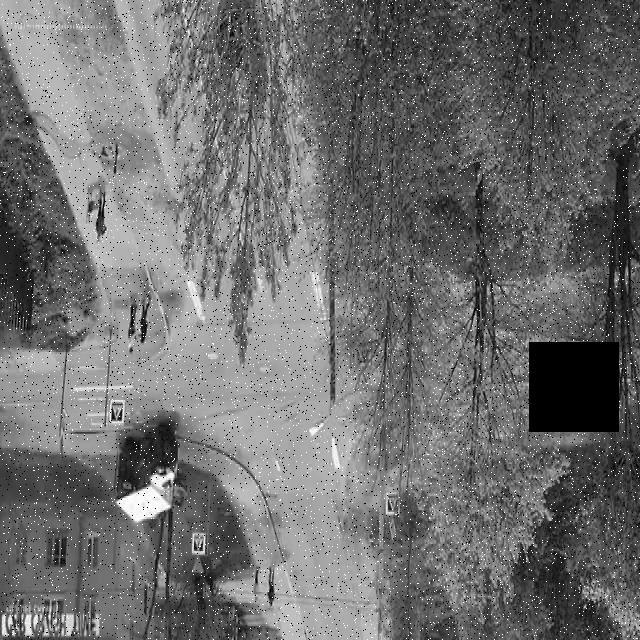severe: (112, 418, 184, 530)
